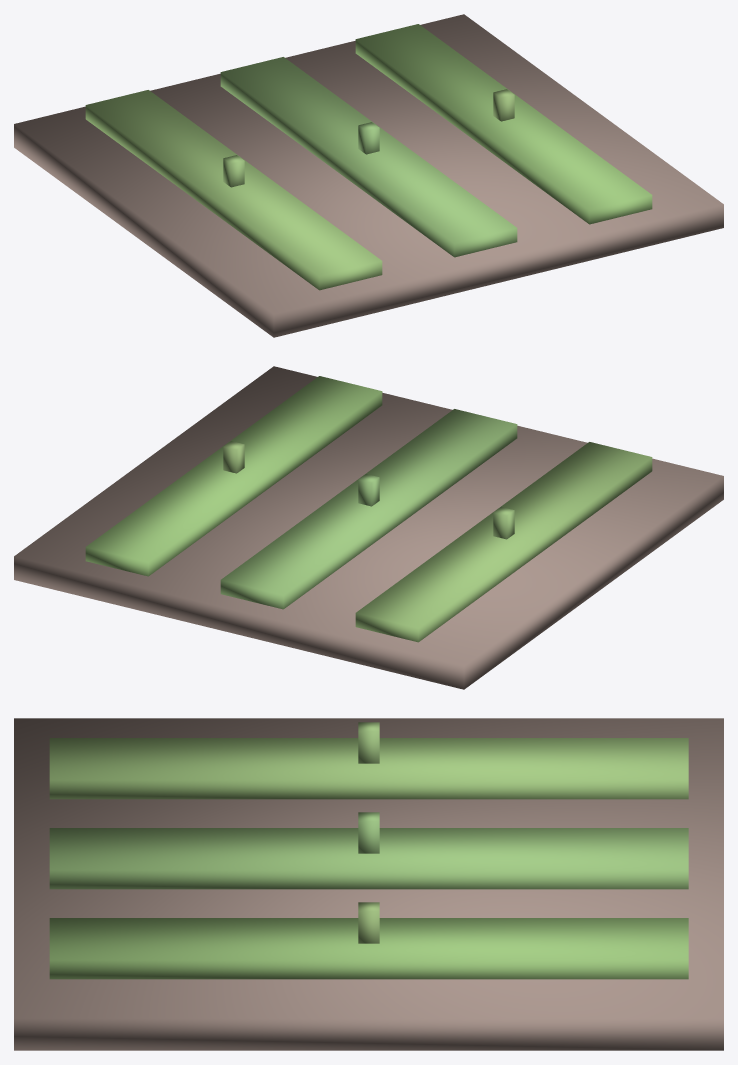
File: plant_tilled_soil_spring.glb
3 renders of one model, top to bottom at view 1: azimuth 30°, elevation 25°; view 2: azimuth 150°, elevation 25°; view 3: azimuth 270°, elevation 25°, orthographic. The views are drawn at different scales.
Parts seen in each view (by area): view 1: soil_base, ridge1, ridge0, ridge2, sprout0, sprout1, sprout2; view 2: soil_base, ridge1, ridge0, ridge2, sprout0, sprout1, sprout2; view 3: soil_base, ridge0, ridge1, ridge2, sprout0, sprout1, sprout2.
Part boxes in pixels (<box>): soil_base: <box>14,14,723,337</box>; ridge1: <box>220,57,517,257</box>; ridge0: <box>85,90,382,290</box>; ridge2: <box>355,24,652,224</box>; sprout0: <box>223,155,244,187</box>; sprout1: <box>358,122,379,154</box>; sprout2: <box>493,89,514,121</box>; soil_base: <box>14,366,723,689</box>; ridge1: <box>220,409,517,609</box>; ridge0: <box>355,442,652,642</box>; ridge2: <box>85,376,382,576</box>; sprout0: <box>493,507,514,539</box>; sprout1: <box>358,474,379,506</box>; sprout2: <box>223,441,244,473</box>; soil_base: <box>14,718,723,1050</box>; ridge0: <box>49,738,688,799</box>; ridge1: <box>49,828,688,889</box>; ridge2: <box>49,918,688,979</box>; sprout0: <box>358,722,379,763</box>; sprout1: <box>358,812,379,853</box>; sprout2: <box>358,902,379,943</box>.
Bounding box in the file's own units: 1 × 0.13 × 1.
